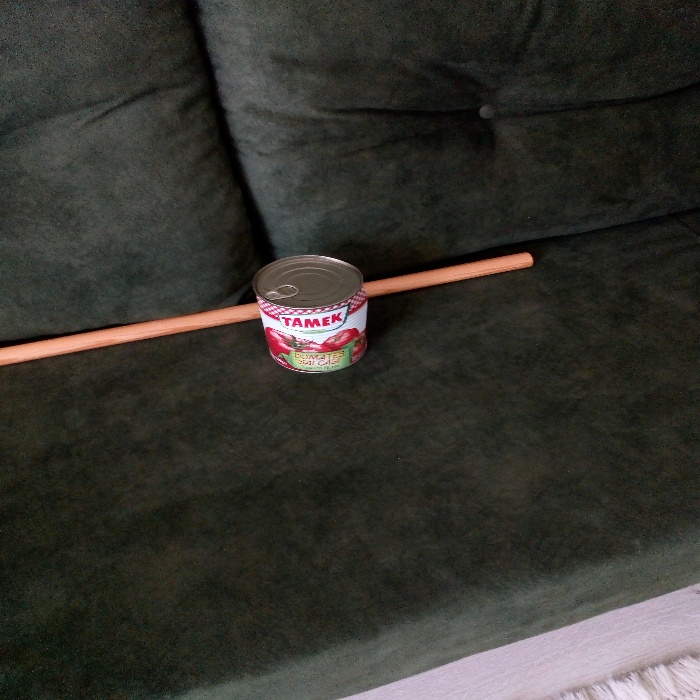salca: (256, 244, 380, 372)
